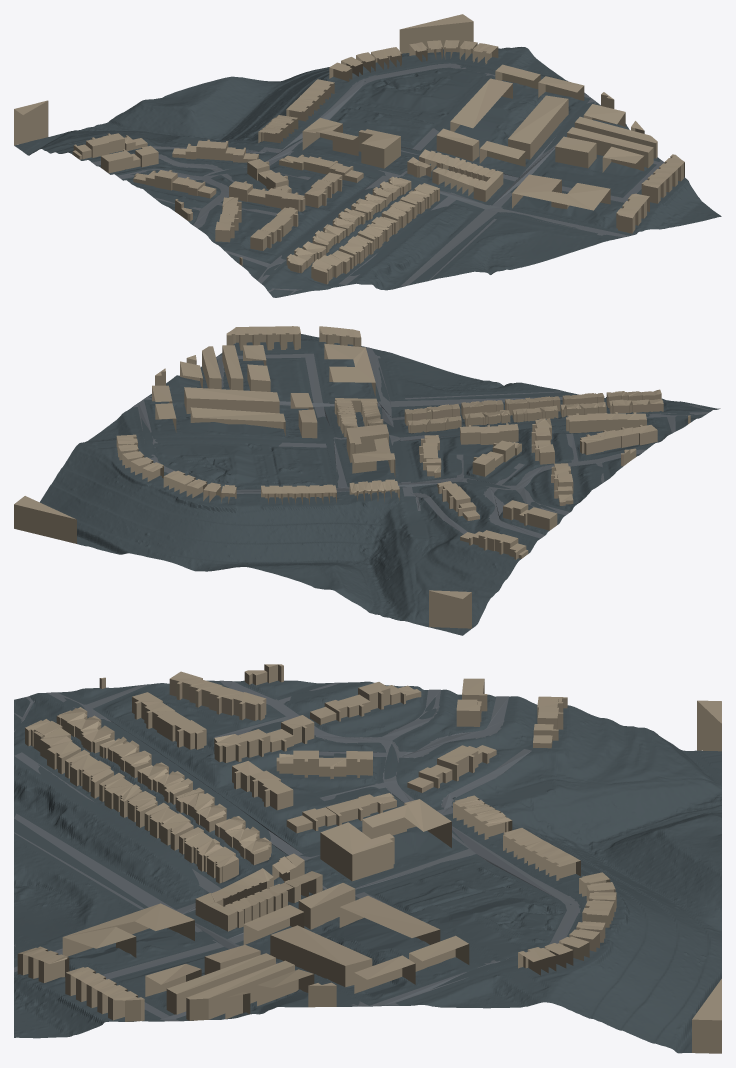
The model's file is epsg26910-1446-10874.lod0.glb.
3 renders of one model, top to bottom at view 1: azimuth 30°, elevation 25°; view 2: azimuth 150°, elevation 25°; view 3: azimuth 270°, elevation 25°, orthographic. The views are drawn at different scales.
Parts seen in each view (by area): view 1: epsg26910-1446-10874-lod0; view 2: epsg26910-1446-10874-lod0; view 3: epsg26910-1446-10874-lod0.
Boxes of the visible parts, x1=… form: epsg26910-1446-10874-lod0: x1=14, y1=14, x2=721, y2=297; epsg26910-1446-10874-lod0: x1=14, y1=326, x2=720, y2=635; epsg26910-1446-10874-lod0: x1=14, y1=664, x2=721, y2=1053.
Size of the model in its own units: 384 by 54.39 by 384.
